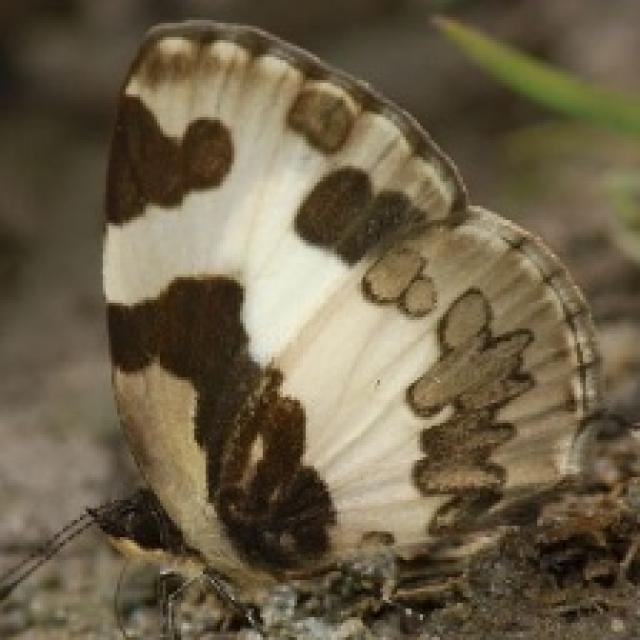butterfly: (0, 14, 626, 637)
